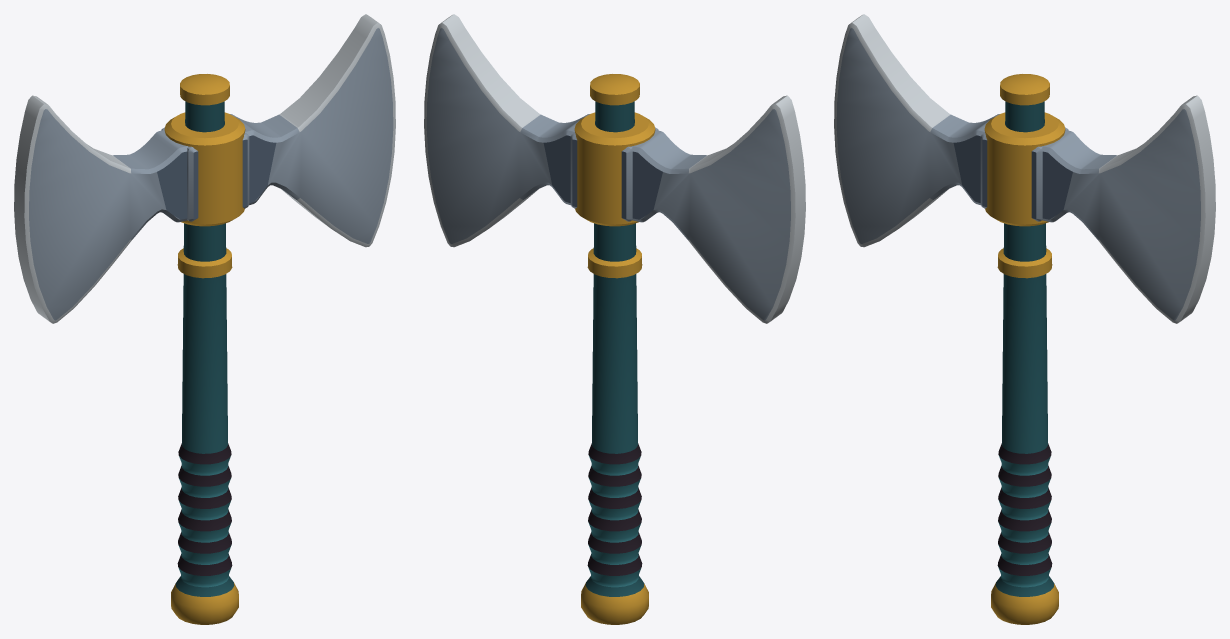
The model's file is Axe_23.glb.
The picture shows the model from 3 angles, left to right: view 1: azimuth 30°, elevation 25°; view 2: azimuth 150°, elevation 25°; view 3: azimuth 330°, elevation 25°; orthographic projection.
Visible parts, largest first — view 1: Axe_23; view 2: Axe_23; view 3: Axe_23.
Part boxes in pixels (x1,y1,x2,y2): Axe_23: (14, 14, 395, 624); Axe_23: (424, 14, 805, 624); Axe_23: (834, 14, 1215, 624).
Bounding box in the file's own units: 3.35 × 4.76 × 0.63.
